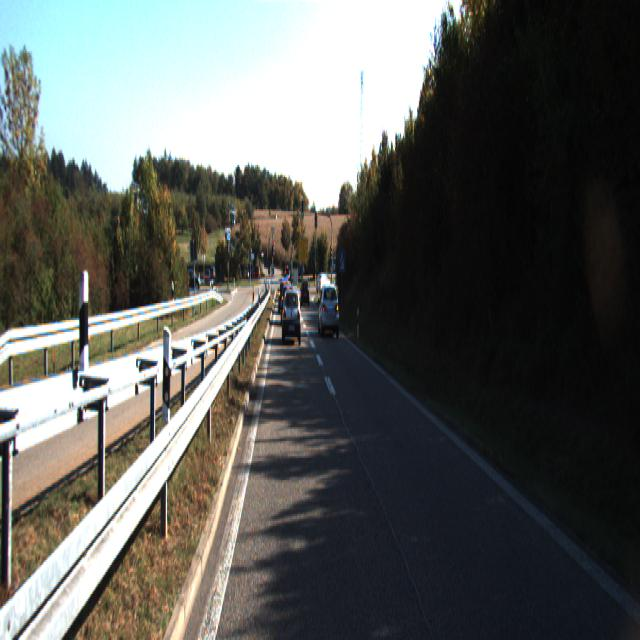Car: (318, 280, 339, 334), (282, 288, 300, 344), (280, 285, 295, 326), (300, 276, 310, 304)
